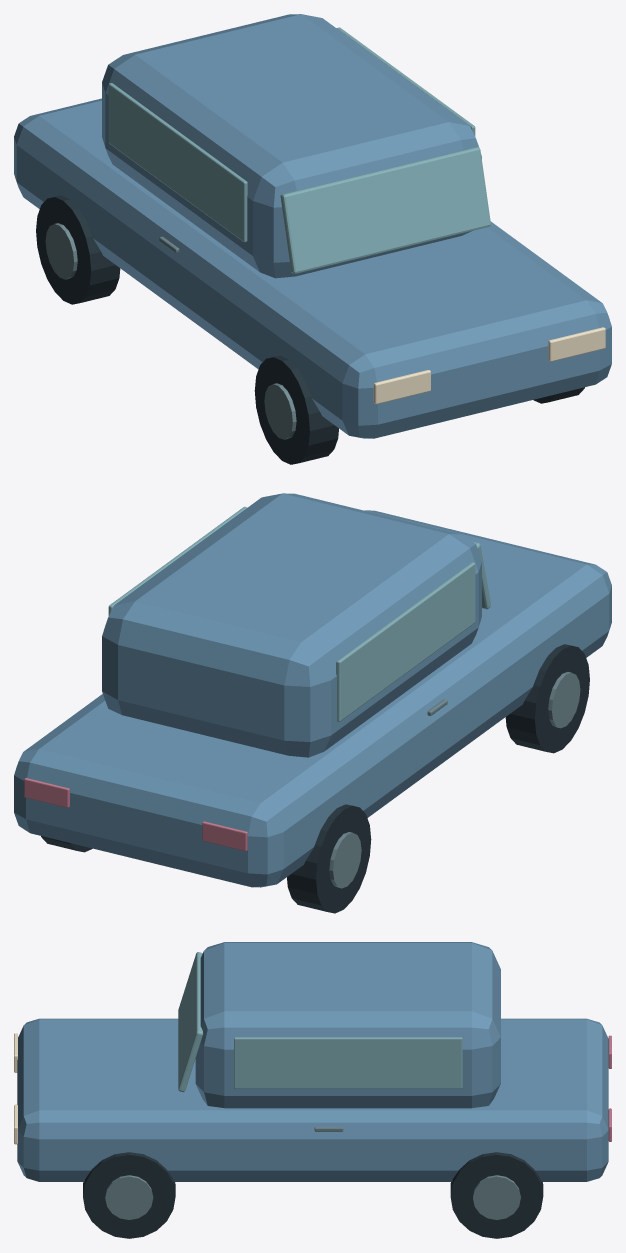
The model's file is Parked_Hatchback_Blocker.fbx.
3 views of the same model, one above another, from view 1: azimuth 30°, elevation 25°; view 2: azimuth 150°, elevation 25°; view 3: azimuth 270°, elevation 25° (orthographic). The views are drawn at different scales.
Parts seen in each view (by area): view 1: Parked_Hatchback_Blocker_Mesh; view 2: Parked_Hatchback_Blocker_Mesh; view 3: Parked_Hatchback_Blocker_Mesh.
Part boxes in pixels (bbox=[...]): Parked_Hatchback_Blocker_Mesh: bbox=[14, 14, 611, 464]; Parked_Hatchback_Blocker_Mesh: bbox=[14, 493, 611, 913]; Parked_Hatchback_Blocker_Mesh: bbox=[14, 942, 611, 1238].
Bounding box in the file's own units: 1.75 × 1.41 × 3.74.
1 material, 1 textured.
